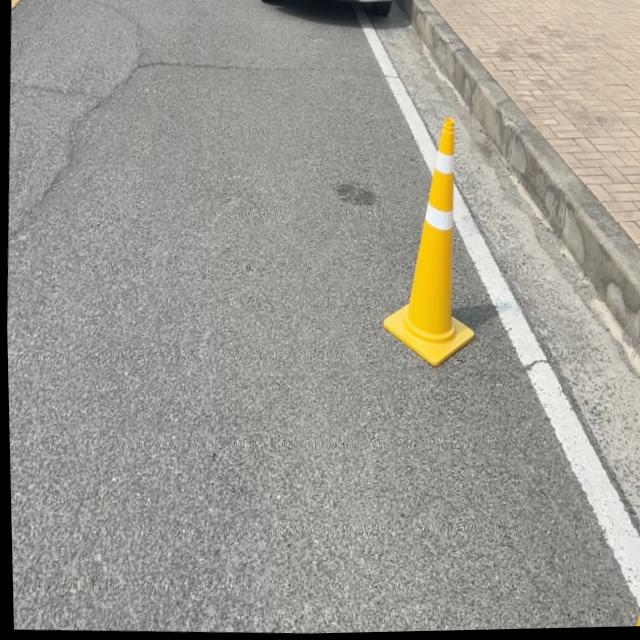y_rub: (382, 119, 473, 366)
